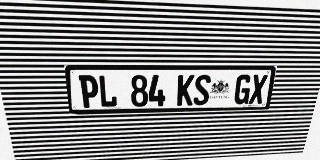4: (149, 75, 166, 106)
8: (131, 75, 148, 107)
G: (233, 75, 252, 104)
K: (177, 75, 195, 106)
L: (98, 75, 117, 107)
P: (78, 75, 99, 108)
S: (193, 75, 211, 105)
X: (248, 75, 268, 104)
